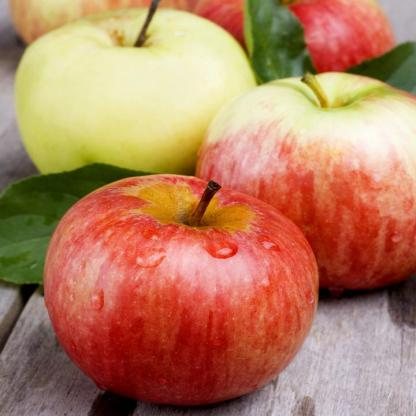apple: (41, 171, 320, 416), (204, 67, 416, 310)
